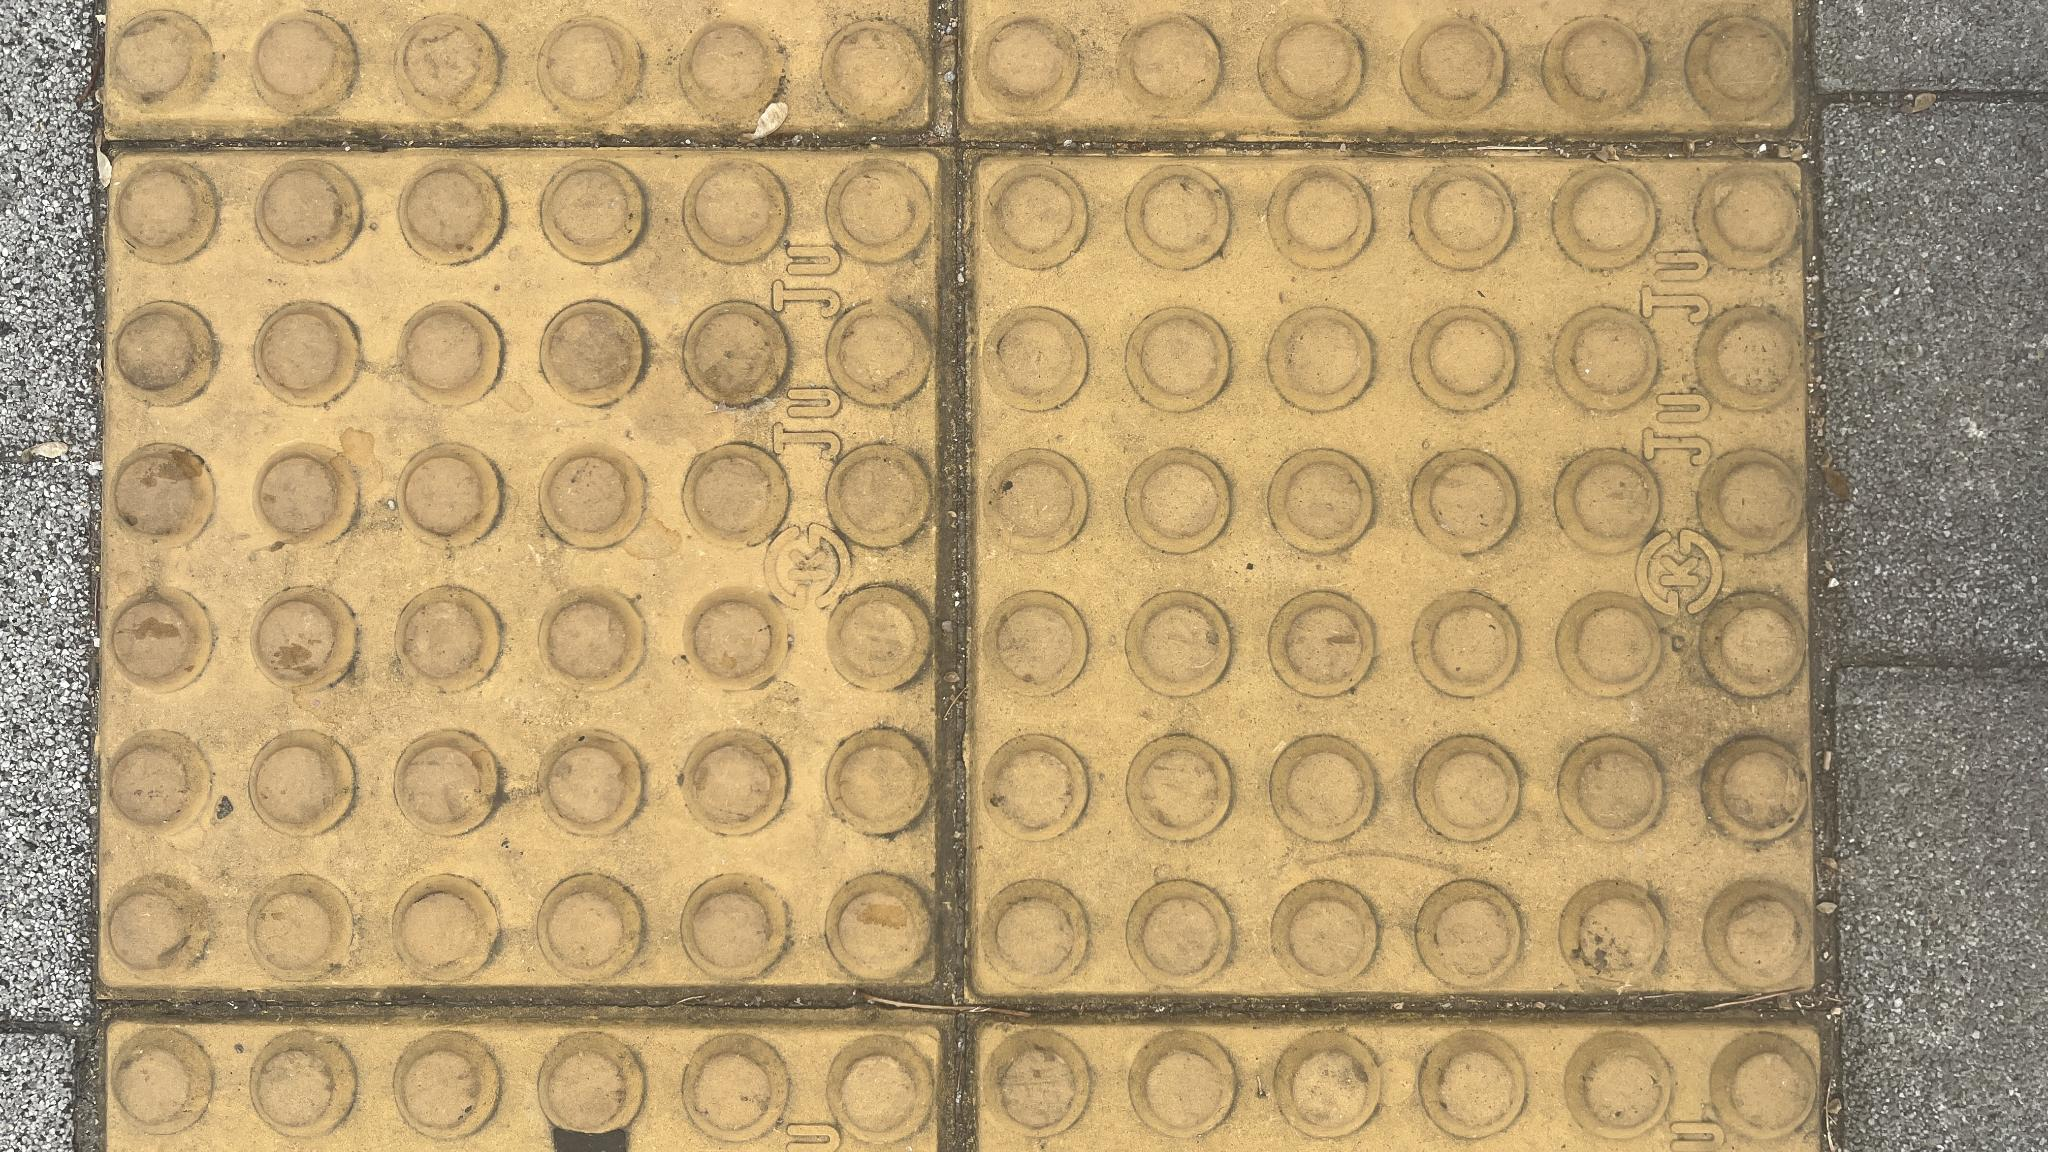Stop block normal: (165, 113, 997, 933), (162, 976, 997, 1152)
